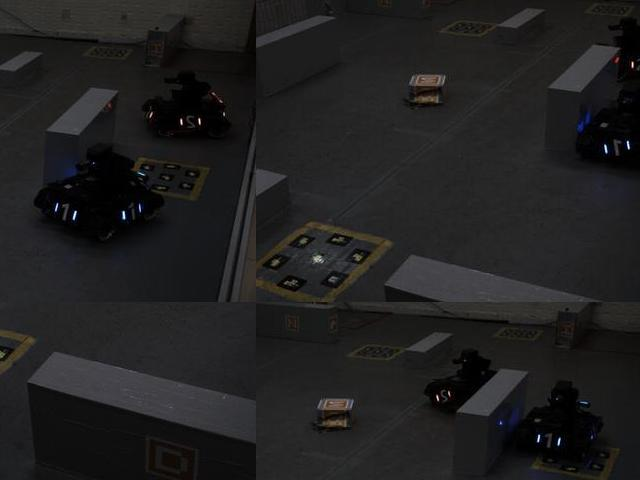armor: (49, 194, 82, 228), (597, 135, 636, 162), (118, 197, 147, 227), (530, 429, 565, 453), (433, 382, 456, 407), (177, 112, 207, 131), (625, 53, 639, 73)
